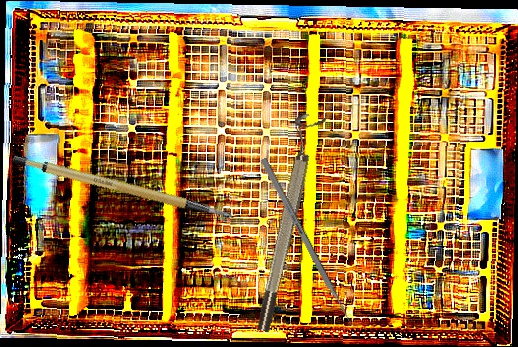Fixation Ring: (243, 111, 327, 334)
Pusher: (259, 157, 359, 334)
Scalpel Handle: (10, 125, 236, 254)
